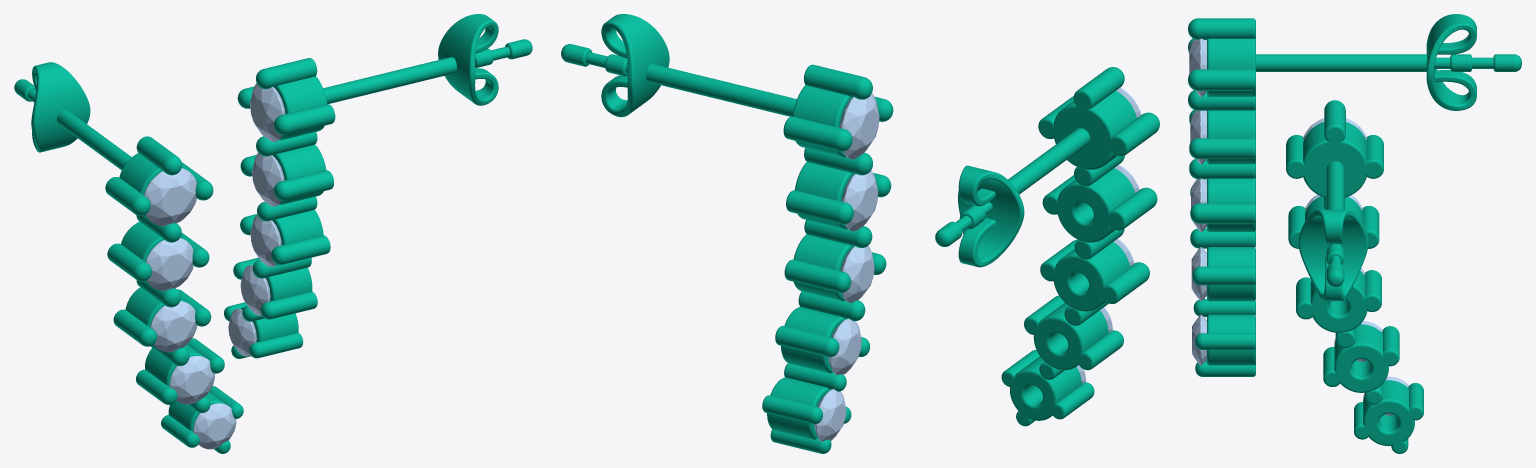
The picture shows the model from 3 angles, left to right: view 1: azimuth 30°, elevation 25°; view 2: azimuth 150°, elevation 25°; view 3: azimuth 270°, elevation 25°; orthographic projection. The views are drawn at different scales.
Visible parts, largest first — view 1: EAR1272.3dm, Diamond_Round (×10); view 2: EAR1272.3dm, Diamond_Round (×5); view 3: EAR1272.3dm, Diamond_Round (×5).
Boxes of the visible parts, x1,y1,x2,y2 form: EAR1272.3dm: (14,14,532,453); Diamond_Round (×10): (144,83,285,449); EAR1272.3dm: (561,14,1159,453); Diamond_Round (×5): (814,93,879,441); EAR1272.3dm: (1188,14,1521,453); Diamond_Round (×5): (1189,38,1206,365).
Size of the model in its own units: 3.02 by 1.94 by 1.78.
